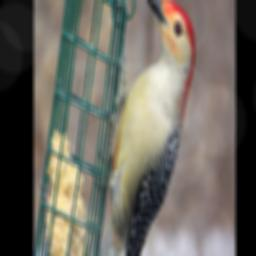Woodpecker: (98, 0, 195, 256)
